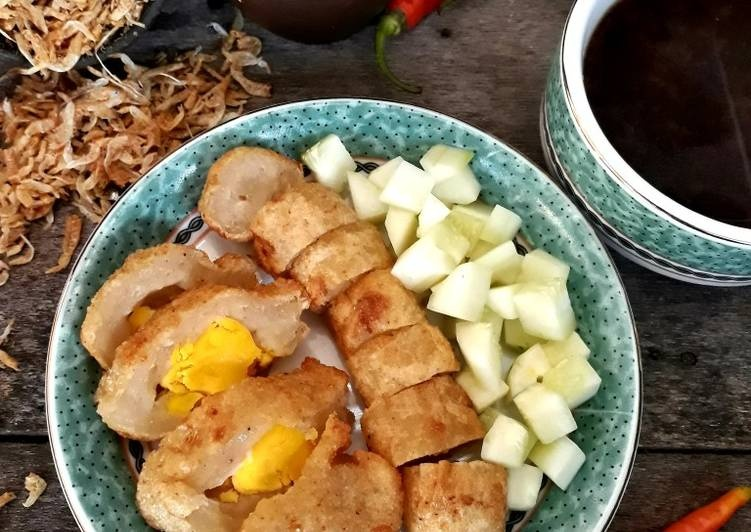pempek: (80, 137, 604, 532)
